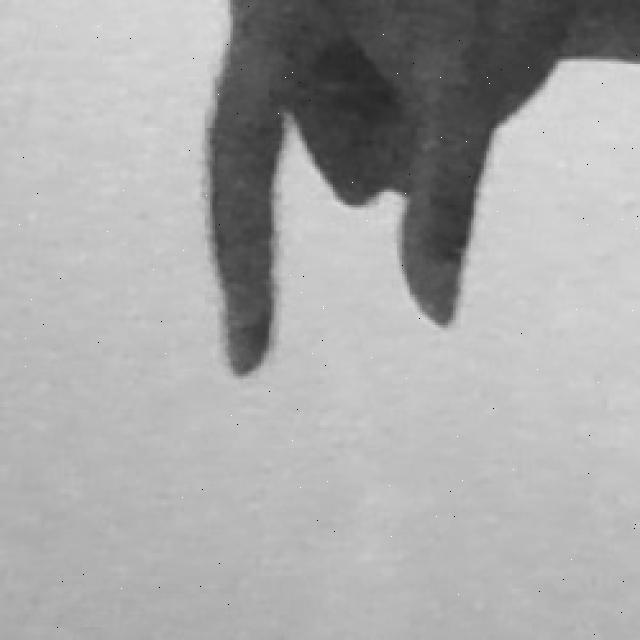Q: (194, 0, 640, 389)
